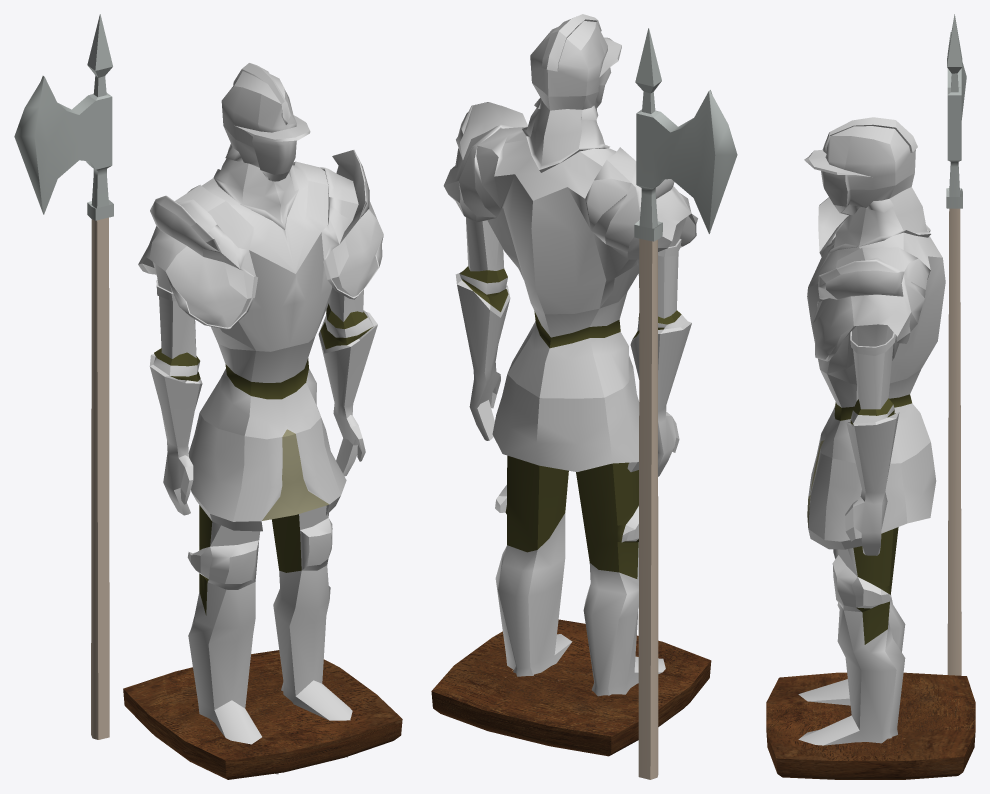
File: 0819yoroi2.fbx
The picture shows the model from 3 angles, left to right: view 1: azimuth 30°, elevation 25°; view 2: azimuth 150°, elevation 25°; view 3: azimuth 270°, elevation 25°; orthographic projection. The views are drawn at different scales.
Visible parts, largest first — view 1: pCube1, pCube3, pCube2; view 2: pCube1, pCube3, pCube2; view 3: pCube1, pCube2, pCube3.
Boxes of the visible parts, box(x1,y1,x2,y2) form: pCube1: box(138, 63, 383, 774); pCube3: box(14, 14, 113, 739); pCube2: box(123, 650, 402, 779); pCube1: box(443, 14, 697, 696); pCube3: box(634, 28, 737, 779); pCube2: box(431, 619, 711, 756); pCube1: box(798, 117, 945, 745); pCube2: box(766, 672, 975, 779); pCube3: box(946, 14, 966, 675).
Bounding box in the file's own units: 318 × 699 × 194.
